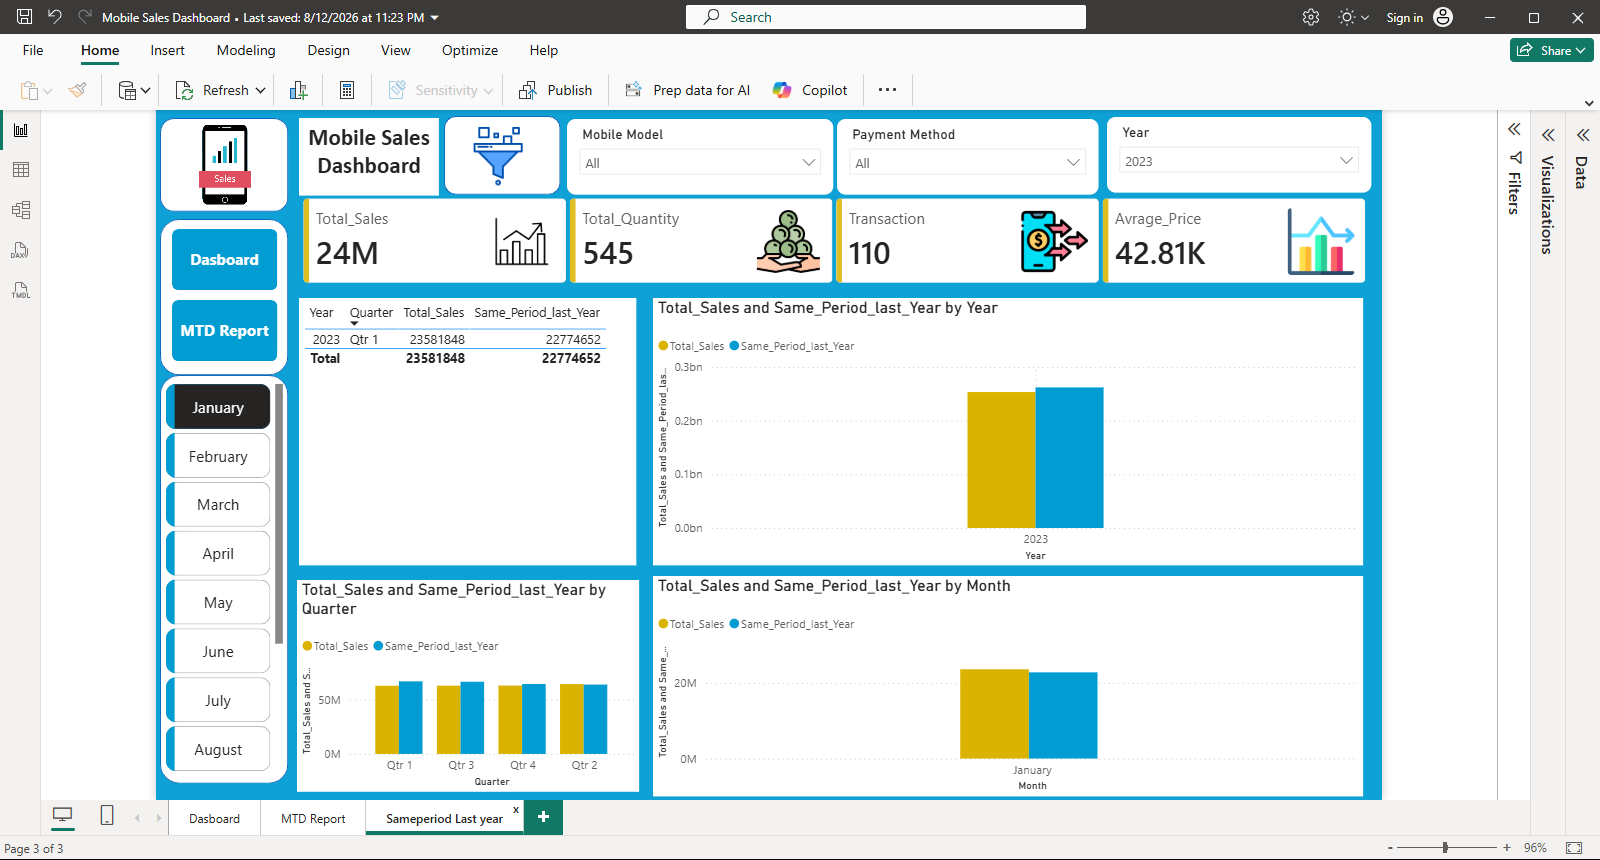

What the dashboard file says about the page in this screenshot:
{"tool":"powerbi","page":{"name":"Sameperiod Last year","canvas":[1280,720],"ordinal":2},"visuals":[{"type":"shape","box":[300.4,6.8,121.5,82.1],"z":0},{"type":"shape","box":[4.6,7.9,133.9,97.9],"z":1000},{"type":"shape","box":[4.6,113.6,133.9,163.1],"z":3000},{"type":"cardVisual","fields":{"Data":["Sales_Data.Total_Sales","Sales_Data.Total_Quantity","Sales_Data.Transaction","Sales_Data.Avrage_Price"]},"box":[138.8,77.1,1141.2,118.2],"z":4000},{"type":"slicer","fields":{"Values":["Sales_Data.Mobile Model"]},"box":[427.5,7.9,280.1,81],"z":5000},{"type":"slicer","fields":{"Values":["Sales_Data.Payment Method"]},"box":[709.9,7.9,274.5,81],"z":6000},{"type":"slicer","fields":{"Values":["Custom_Calendar.Date.Variation.Date Hierarchy.Year"]},"box":[990.8,6.4,277.6,81],"z":7000},{"type":"image","box":[300.4,16.9,112.5,63],"z":8000},{"type":"textbox","box":[149.6,7.9,146.2,81],"z":9000},{"type":"shape","box":[4.5,276.8,133.9,426.4],"z":10000},{"type":"advancedSlicerVisual","fields":{"Values":["Custom_Calendar.Date.Variation.Date Hierarchy.Month"]},"box":[9,284.6,124.9,410.6],"z":11000},{"type":"tableEx","fields":{"Values":["Custom_Calendar.Date.Variation.Date Hierarchy.Year","Custom_Calendar.Date.Variation.Date Hierarchy.Quarter","Sales_Data.Total_Sales","Sales_Data.Same_Period_last_Year"]},"box":[149.6,195.8,352.1,279],"z":12000},{"type":"clusteredColumnChart","fields":{"Category":["Custom_Calendar.Date.Variation.Date Hierarchy.Year","Custom_Calendar.Date.Variation.Date Hierarchy.Quarter"],"Y":["Sales_Data.Total_Sales","Sales_Data.Same_Period_last_Year"]},"box":[518.6,195.8,741.4,279],"z":13000},{"type":"clusteredColumnChart","fields":{"Y":["Sales_Data.Total_Sales","Sales_Data.Same_Period_last_Year"],"Category":["Custom_Calendar.Date.Variation.Date Hierarchy.Month"]},"box":[518.6,486,741.4,229.5],"z":14000},{"type":"clusteredColumnChart","fields":{"Category":["Custom_Calendar.Date.Variation.Date Hierarchy.Year","Custom_Calendar.Date.Variation.Date Hierarchy.Quarter"],"Y":["Sales_Data.Total_Sales","Sales_Data.Same_Period_last_Year"]},"box":[147.4,490.5,356.6,220.5],"z":15000},{"type":"pageNavigator","box":[16.9,123.8,110.2,138.4],"z":16000},{"type":"image","box":[10.1,15.8,122.6,83.2],"z":16001}]}

Visuals, with their boxes on the page's 1280x720 design canvas (x1, y1, x2, y2). These are canvas units, not pixel positions in the 1600x860 screenshot, which may show the page scaled, cropped or inside an application window:
shape: x1=300, y1=7, x2=422, y2=89
shape: x1=5, y1=8, x2=138, y2=106
shape: x1=5, y1=114, x2=138, y2=277
cardVisual - Sales_Data.Total_Sales x Sales_Data.Total_Quantity: x1=139, y1=77, x2=1280, y2=195
slicer - Sales_Data.Mobile Model: x1=428, y1=8, x2=708, y2=89
slicer - Sales_Data.Payment Method: x1=710, y1=8, x2=984, y2=89
slicer - Custom_Calendar.Date.Variation.Date Hierarchy.Year: x1=991, y1=6, x2=1268, y2=87
image: x1=300, y1=17, x2=413, y2=80
textbox: x1=150, y1=8, x2=296, y2=89
shape: x1=4, y1=277, x2=138, y2=703
advancedSlicerVisual - Custom_Calendar.Date.Variation.Date Hierarchy.Month: x1=9, y1=285, x2=134, y2=695
tableEx - Custom_Calendar.Date.Variation.Date Hierarchy.Year x Custom_Calendar.Date.Variation.Date Hierarchy.Quarter: x1=150, y1=196, x2=502, y2=475
clusteredColumnChart - Custom_Calendar.Date.Variation.Date Hierarchy.Year x Custom_Calendar.Date.Variation.Date Hierarchy.Quarter: x1=519, y1=196, x2=1260, y2=475
clusteredColumnChart - Sales_Data.Total_Sales x Sales_Data.Same_Period_last_Year: x1=519, y1=486, x2=1260, y2=716
clusteredColumnChart - Custom_Calendar.Date.Variation.Date Hierarchy.Year x Custom_Calendar.Date.Variation.Date Hierarchy.Quarter: x1=147, y1=490, x2=504, y2=711
pageNavigator: x1=17, y1=124, x2=127, y2=262
image: x1=10, y1=16, x2=133, y2=99
